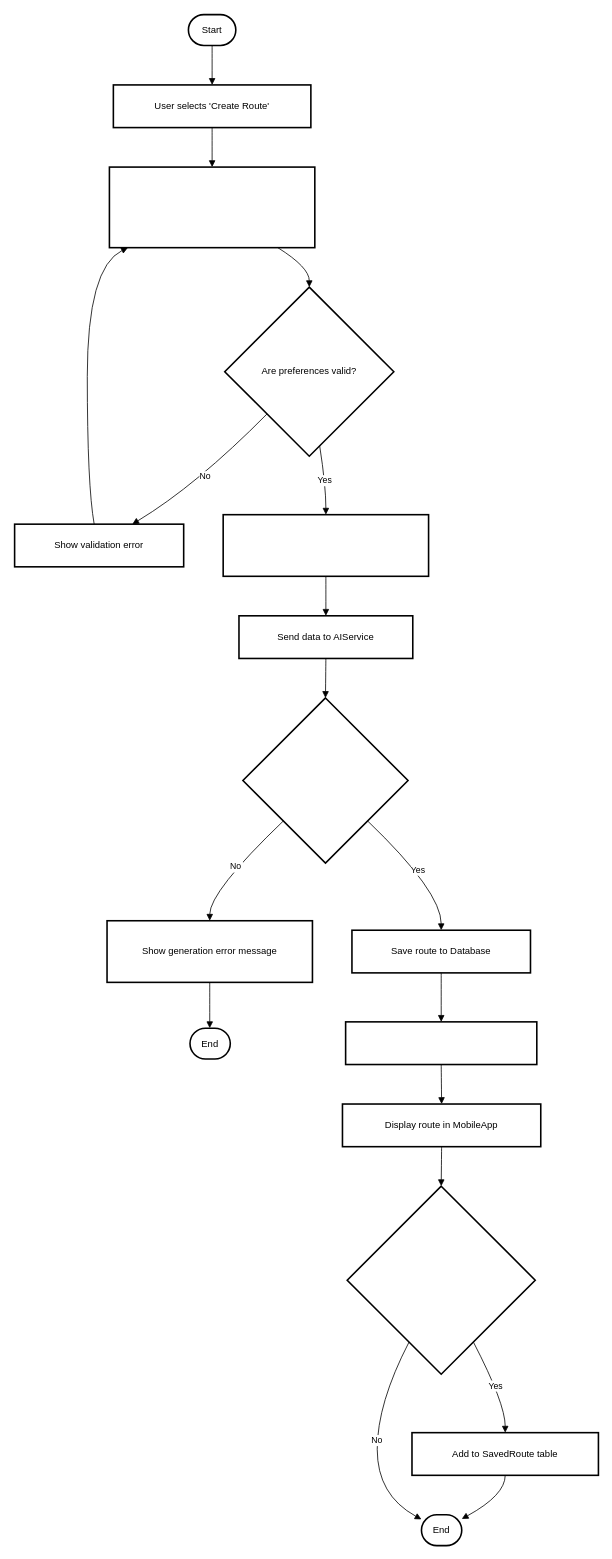
This 612x1559 diagram has some shape labels left out. The centre of each missing label's shape, as x and y in pixels:
Enter preferences (distance, difficulty, activity type): (x=211, y=207)
Get user profile from Database: (x=325, y=545)
Send route to MapService: (x=440, y=1043)
User wants to save route?: (x=441, y=1280)
Was route generated?: (x=325, y=780)
